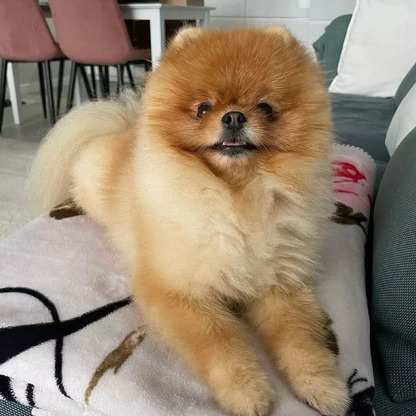Pomeranian: (39, 25, 383, 391)
